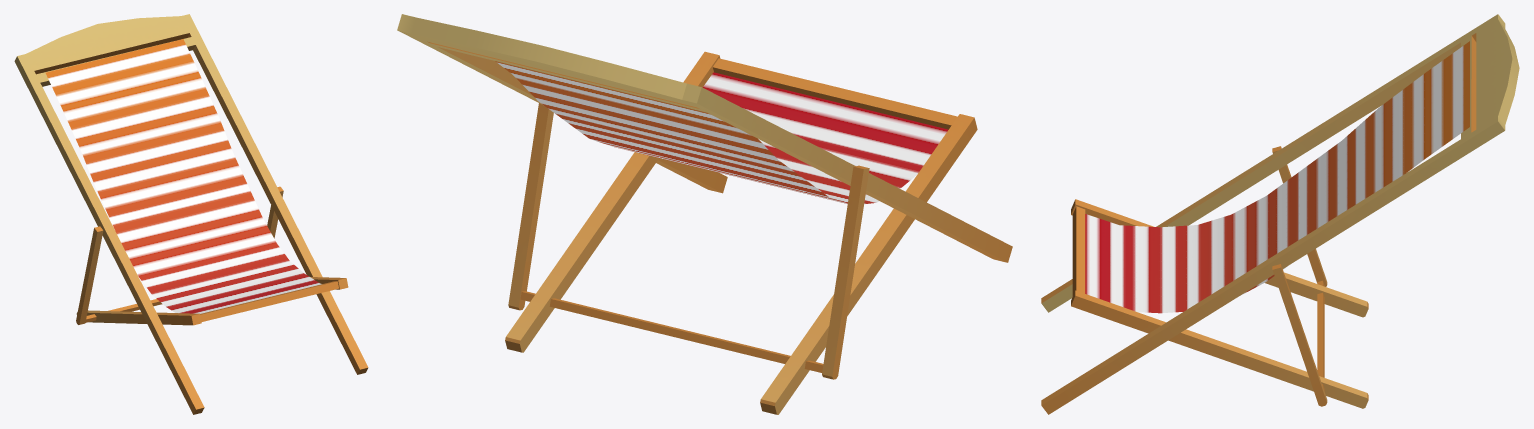
The model's file is ENV_BeachChair.fbx.
3 renders of one model, left to right at view 1: azimuth 30°, elevation 25°; view 2: azimuth 150°, elevation 25°; view 3: azimuth 270°, elevation 25°, orthographic. The views are drawn at different scales.
Visible parts, largest first — view 1: BeachChair; view 2: BeachChair; view 3: BeachChair.
Boxes of the visible parts, left/top/right/bottom form: BeachChair: left=14, top=14, right=368, bottom=414; BeachChair: left=397, top=14, right=1012, bottom=414; BeachChair: left=1041, top=14, right=1519, bottom=414.
Bounding box in the file's own units: 92.43 × 112 × 161.
